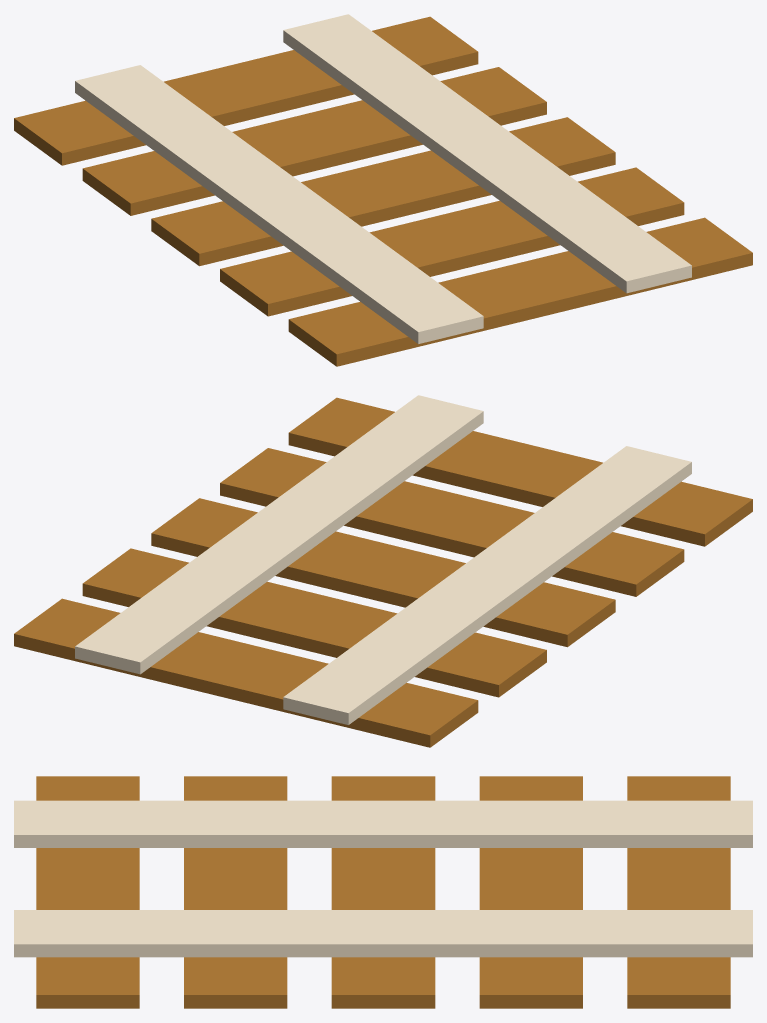
File: IndestructibleRailStraight.fbx
The picture shows the model from 3 angles, top to bottom: view 1: azimuth 30°, elevation 25°; view 2: azimuth 150°, elevation 25°; view 3: azimuth 270°, elevation 25°; orthographic projection. The views are drawn at different scales.
Parts seen in each view (by area): view 1: Rail_Szyny_Straight, Rail_Track_Straight__2_, Rail_Track_Straight, Rail_Track_Straight__1_, Rail_Track_Straight__3_, Rail_Track_Straight__4_; view 2: Rail_Szyny_Straight, Rail_Track_Straight__4_, Rail_Track_Straight, Rail_Track_Straight__3_, Rail_Track_Straight__1_, Rail_Track_Straight__2_; view 3: Rail_Szyny_Straight, Rail_Track_Straight, Rail_Track_Straight__1_, Rail_Track_Straight__2_, Rail_Track_Straight__3_, Rail_Track_Straight__4_.
Boxes of the visible parts, left/top/right/bottom form: Rail_Szyny_Straight: left=75, top=14, right=691, bottom=343; Rail_Track_Straight__2_: left=288, top=217, right=752, bottom=366; Rail_Track_Straight: left=151, top=117, right=615, bottom=266; Rail_Track_Straight__1_: left=220, top=167, right=684, bottom=316; Rail_Track_Straight__3_: left=82, top=67, right=546, bottom=215; Rail_Track_Straight__4_: left=14, top=16, right=478, bottom=165; Rail_Szyny_Straight: left=75, top=395, right=691, bottom=724; Rail_Track_Straight__4_: left=14, top=598, right=478, bottom=747; Rail_Track_Straight: left=151, top=498, right=615, bottom=647; Rail_Track_Straight__3_: left=82, top=548, right=546, bottom=697; Rail_Track_Straight__1_: left=220, top=448, right=684, bottom=596; Rail_Track_Straight__2_: left=288, top=397, right=752, bottom=546; Rail_Szyny_Straight: left=14, top=800, right=752, bottom=957; Rail_Track_Straight: left=331, top=776, right=435, bottom=1008; Rail_Track_Straight__1_: left=184, top=776, right=287, bottom=1008; Rail_Track_Straight__2_: left=36, top=776, right=139, bottom=1008; Rail_Track_Straight__3_: left=479, top=776, right=582, bottom=1008; Rail_Track_Straight__4_: left=627, top=776, right=730, bottom=1008.
Bounding box in the file's own units: 70 × 3.98 × 100.
